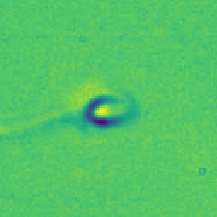normal: (1, 103, 81, 139)
